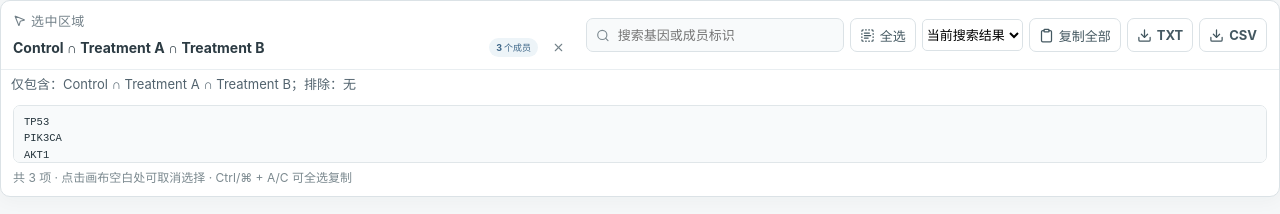
Test: selected intersection member panel › explains an empty search result inside the copyable member area
The width and height of the screenshot is (1280, 214).
Step 1. Type "NOT_A_MEMBER" into the search field named "搜索选中区域成员" → (725, 35), box [616,19,834,51]
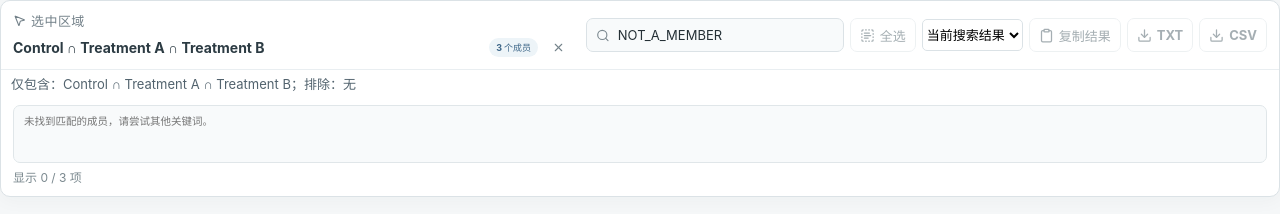
Result: the text "显示 0 / 3 项" is shown at [13,170,82,185]
